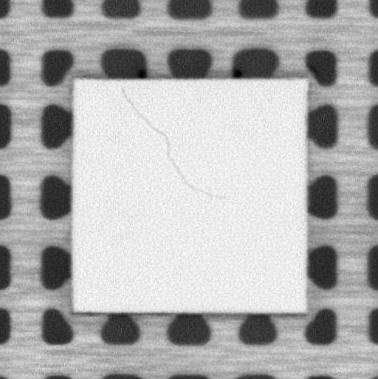DIE_CRACK: (121, 86, 224, 203)
